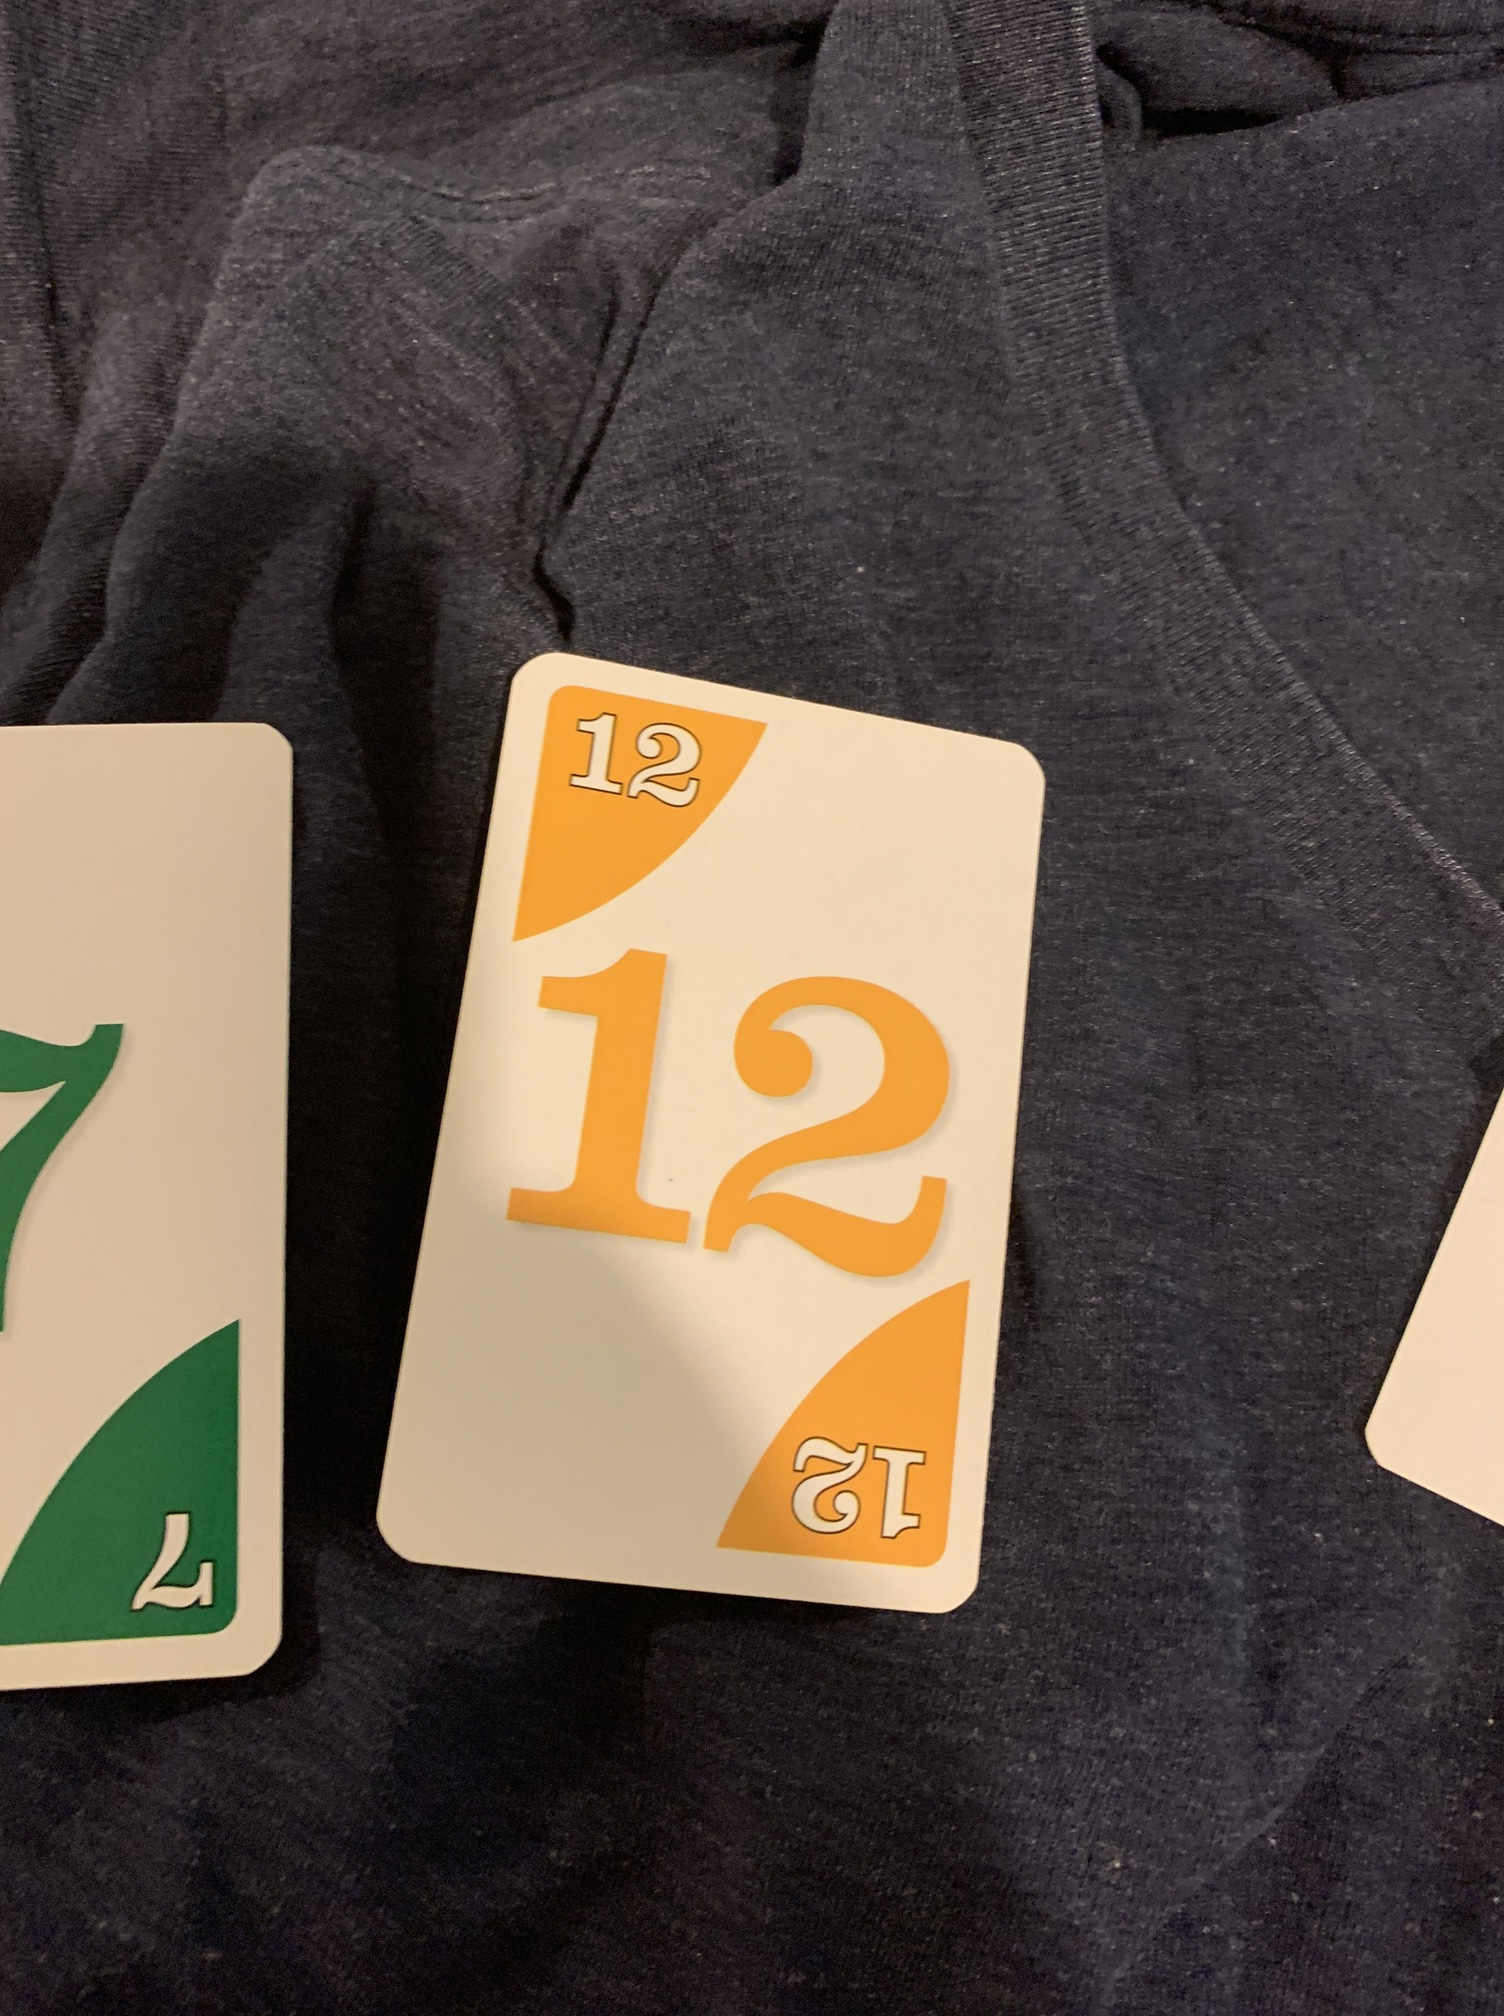twelve: (359, 641, 1063, 1642)
